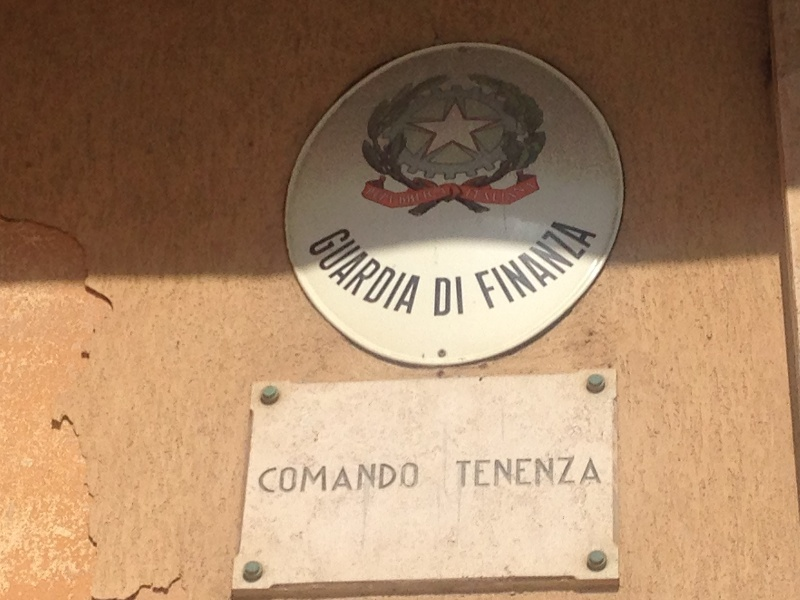text: (481, 215, 496, 316), (497, 215, 512, 316), (513, 215, 528, 316), (529, 215, 544, 316), (545, 215, 560, 316), (561, 215, 576, 316), (577, 215, 592, 316), (305, 226, 320, 320), (321, 226, 336, 320), (337, 226, 352, 320), (353, 226, 368, 320), (369, 226, 384, 320), (385, 226, 400, 320), (401, 226, 416, 320), (471, 215, 480, 316), (449, 274, 465, 320), (433, 274, 448, 320), (593, 215, 599, 316), (417, 226, 422, 320), (273, 464, 288, 495), (289, 464, 304, 495), (305, 464, 320, 495), (321, 464, 336, 495), (337, 464, 352, 495), (353, 464, 368, 495), (369, 464, 384, 495), (385, 464, 400, 495), (401, 464, 416, 495), (465, 457, 480, 488), (481, 457, 496, 488), (497, 457, 512, 488), (513, 457, 528, 488), (529, 457, 544, 488), (545, 457, 560, 488), (561, 457, 576, 488), (577, 457, 592, 488), (369, 178, 384, 209), (385, 178, 400, 209), (401, 178, 416, 209), (417, 178, 432, 209), (433, 178, 448, 209), (449, 178, 464, 209), (465, 178, 480, 209), (481, 178, 496, 209), (497, 178, 512, 209), (513, 178, 528, 209), (258, 464, 272, 495), (529, 178, 541, 209), (593, 457, 604, 488), (455, 457, 464, 488), (417, 464, 421, 495), (365, 178, 368, 209)
